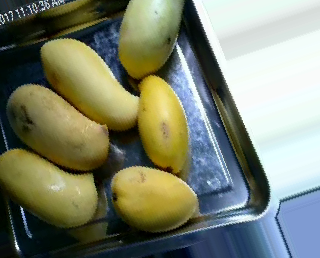Mango: (43, 36, 141, 131), (8, 83, 107, 172), (0, 149, 97, 226), (111, 166, 197, 232), (118, 0, 184, 77), (138, 76, 189, 171)
